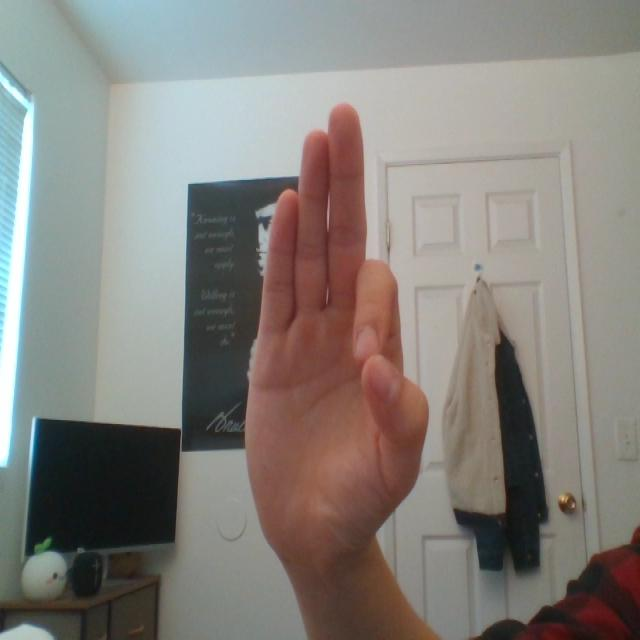F: (219, 73, 439, 580)
